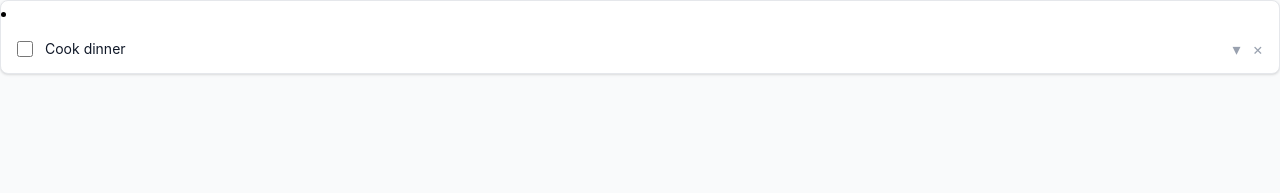
Test: TodoItem › shows the detail panel when the chevron is clicked
Click the button named "Expand details": (1236, 49) [1232,37,1240,61]
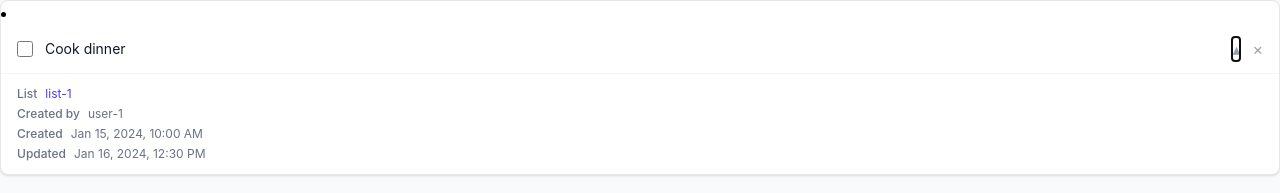
Now the text "Created" is shown, box [17,126,63,142]
